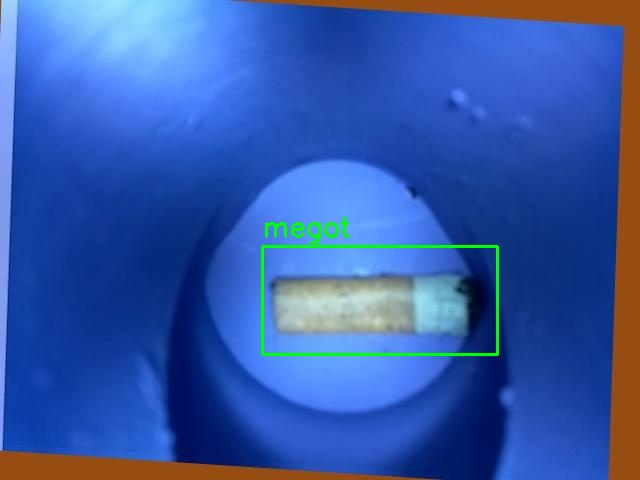megot: (262, 246, 497, 354)
